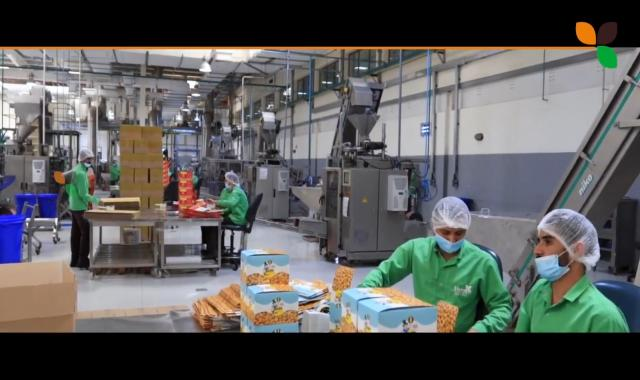hairnet: (536, 207, 600, 270), (429, 194, 469, 249), (222, 171, 240, 193), (78, 148, 94, 167)
